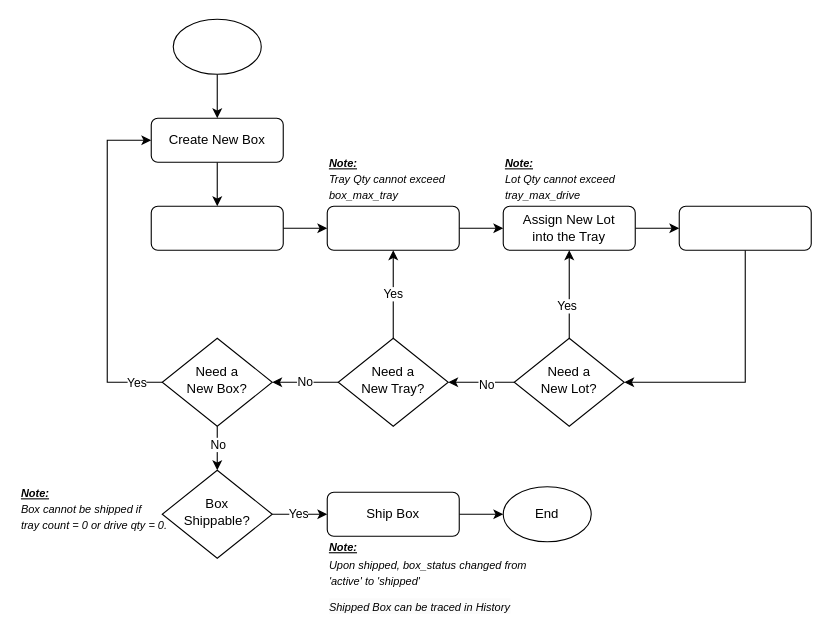
This 831x644 diagram has some shape labels left out. The centre of each missing label's shape, as x and y in pixels:
"Assign Lot Qty into the Lot" goes at point (744, 227).
"Assign New Tray into the Box" goes at point (392, 227).
"Assign Shipdoc into the Box" goes at point (216, 227).
"Start" goes at point (216, 46).
